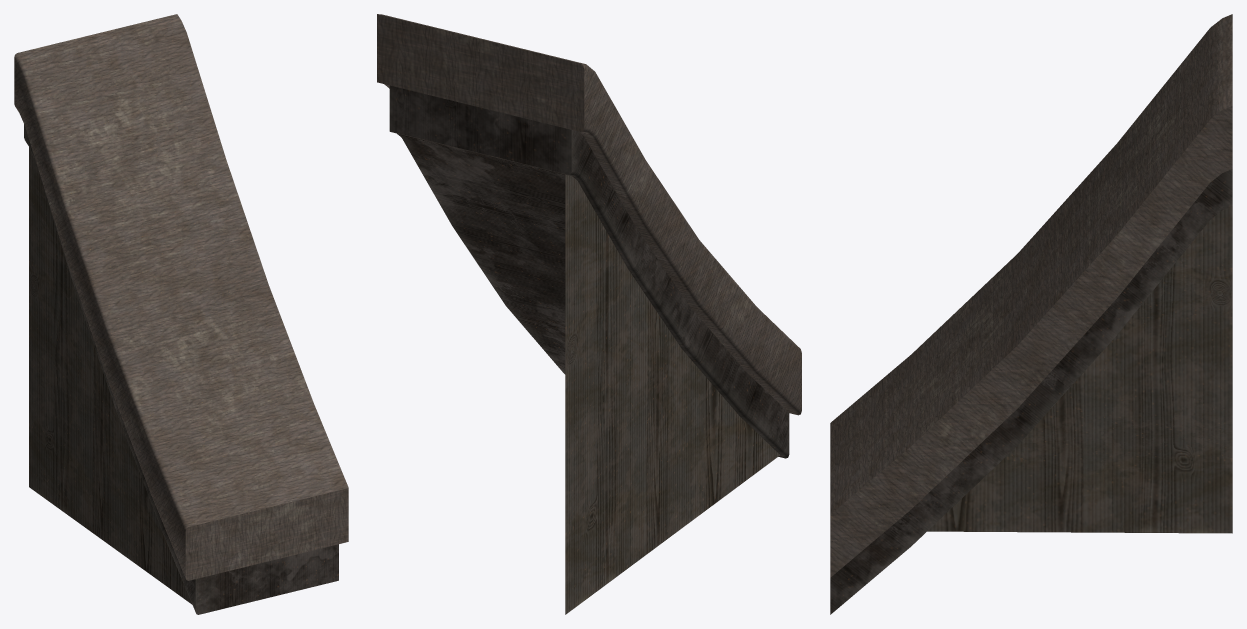
Rendered from ShrineModule_Roof-05.fbx.
3 renders of one model, left to right at view 1: azimuth 30°, elevation 25°; view 2: azimuth 150°, elevation 25°; view 3: azimuth 270°, elevation 25°, orthographic. The views are drawn at different scales.
Visible parts, largest first — view 1: ShrineModule_Roof-05; view 2: ShrineModule_Roof-05; view 3: ShrineModule_Roof-05.
Boxes of the visible parts, box(x1,y1,x2,y2) form: ShrineModule_Roof-05: box(14, 14, 348, 614); ShrineModule_Roof-05: box(377, 14, 801, 614); ShrineModule_Roof-05: box(830, 14, 1232, 614).
Bounding box in the file's own units: 1.65 × 4.24 × 3.
